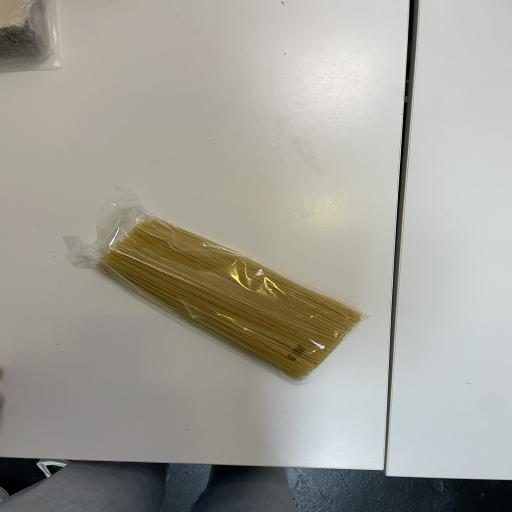spaghetti: (37, 173, 395, 412)
